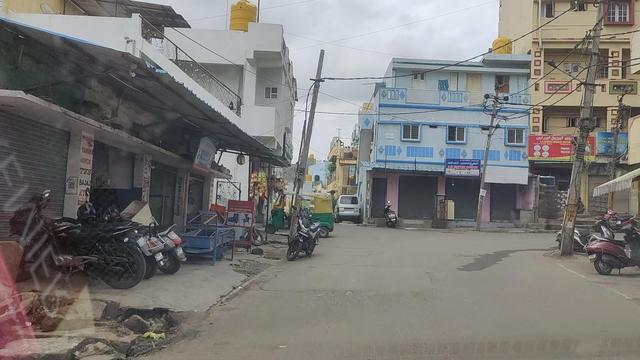RoadDamages: (279, 280, 356, 303), (417, 268, 436, 292)
